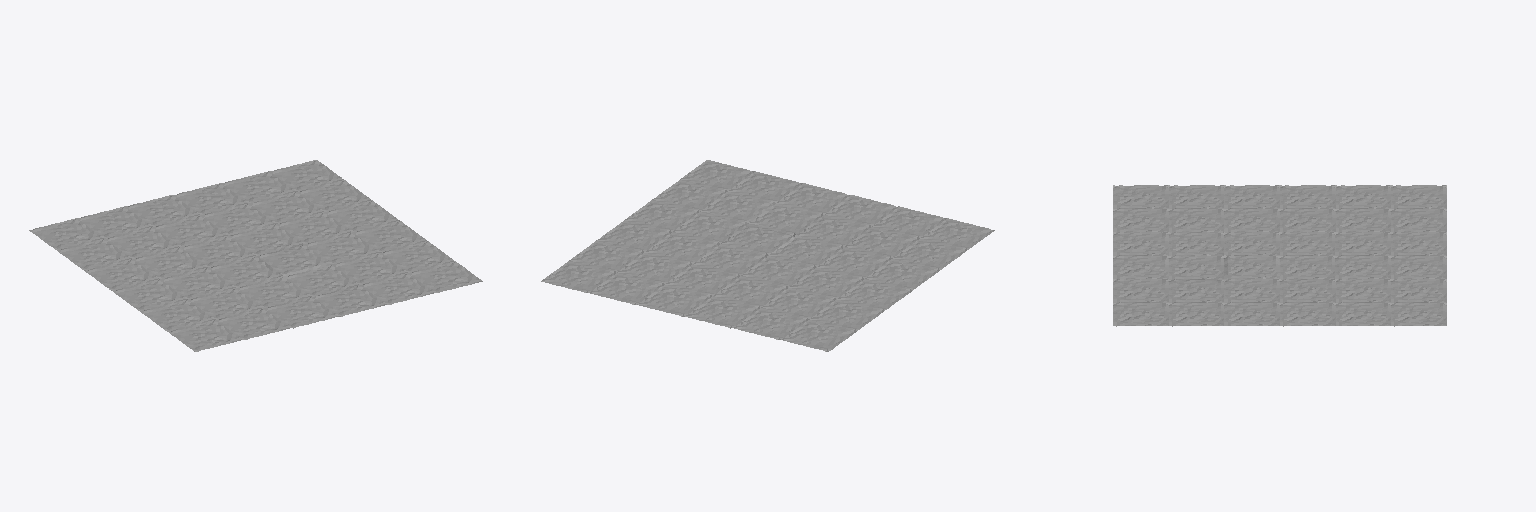
File: Water.obj
3 views of the same model, side by side, from view 1: azimuth 30°, elevation 25°; view 2: azimuth 150°, elevation 25°; view 3: azimuth 270°, elevation 25° (orthographic).
Visible parts, largest first — view 1: Water22; view 2: Water22; view 3: Water22.
Boxes of the visible parts, <box> form: Water22: <box>29,160,482,351</box>; Water22: <box>541,160,994,351</box>; Water22: <box>1113,185,1446,326</box>.
Bounding box in the file's own units: 588 × 4.43 × 588.